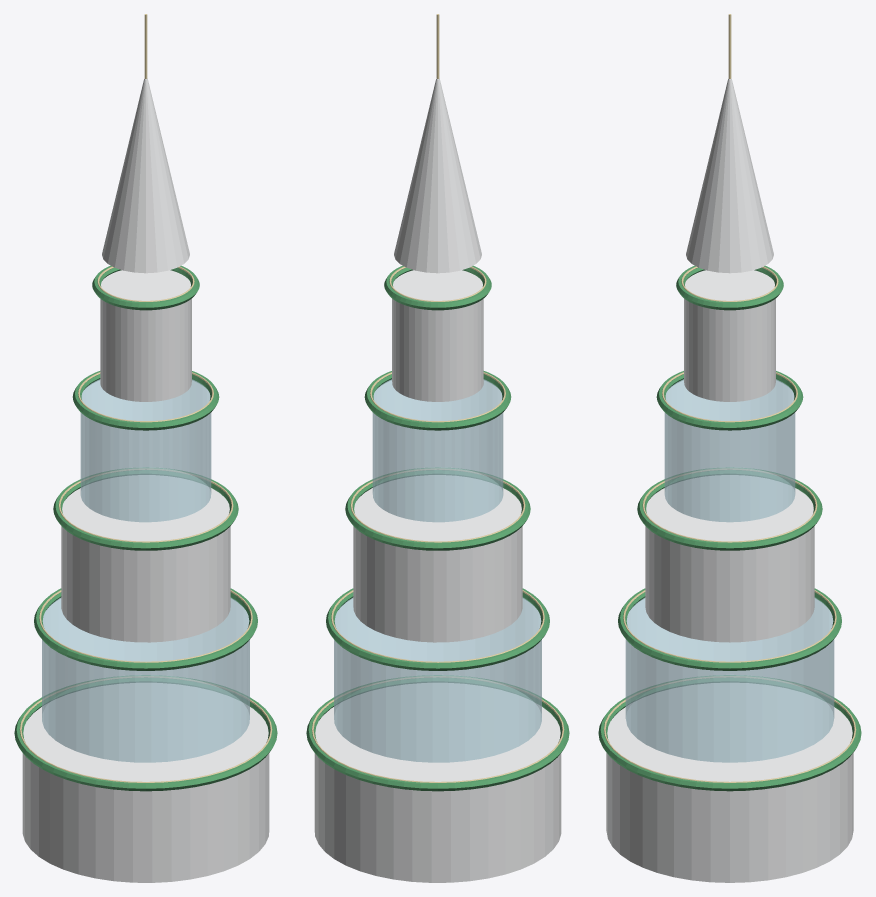
File: reef-tower.glb
3 renders of one model, left to right at view 1: azimuth 30°, elevation 25°; view 2: azimuth 150°, elevation 25°; view 3: azimuth 270°, elevation 25°, orthographic.
Visible parts, largest first — view 1: Cylinder.017, Cylinder.018, Torus.215, Torus.216; view 2: Cylinder.017, Cylinder.018, Torus.215, Torus.216; view 3: Cylinder.017, Cylinder.018, Torus.215, Torus.216.
Boxes of the visible parts, <box> form: Cylinder.017: <box>22,78,269,882</box>; Cylinder.018: <box>42,379,249,762</box>; Torus.215: <box>14,265,277,791</box>; Torus.216: <box>19,14,272,782</box>; Cylinder.017: <box>314,78,561,882</box>; Cylinder.018: <box>334,379,541,762</box>; Torus.215: <box>306,265,569,791</box>; Torus.216: <box>311,14,564,782</box>; Cylinder.017: <box>606,78,853,882</box>; Cylinder.018: <box>625,379,834,762</box>; Torus.215: <box>598,265,861,791</box>; Torus.216: <box>603,14,856,782</box>.
Size of the model in its own units: 29.8 by 102 by 29.8.
